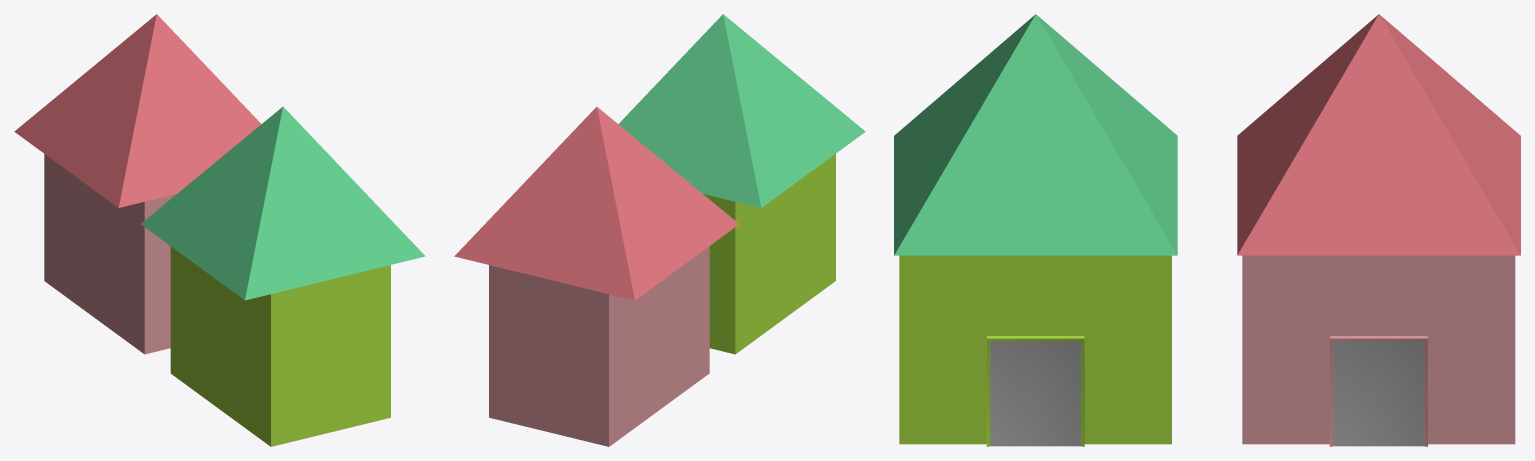
The model's file is NorthPole_Houses.fbx.
3 renders of one model, left to right at view 1: azimuth 30°, elevation 25°; view 2: azimuth 150°, elevation 25°; view 3: azimuth 270°, elevation 25°, orthographic. The views are drawn at different scales.
Parts seen in each view (by area): view 1: polySurface2, polySurface1; view 2: polySurface1, polySurface2; view 3: polySurface1, polySurface2.
Boxes of the visible parts, <box> form: polySurface2: <box>141,106,425,446</box>; polySurface1: <box>14,14,261,354</box>; polySurface1: <box>454,106,738,446</box>; polySurface2: <box>618,14,865,354</box>; polySurface1: <box>1237,14,1520,446</box>; polySurface2: <box>894,14,1177,446</box>.
Size of the model in its own units: 8.47 by 12.91 by 18.72.
